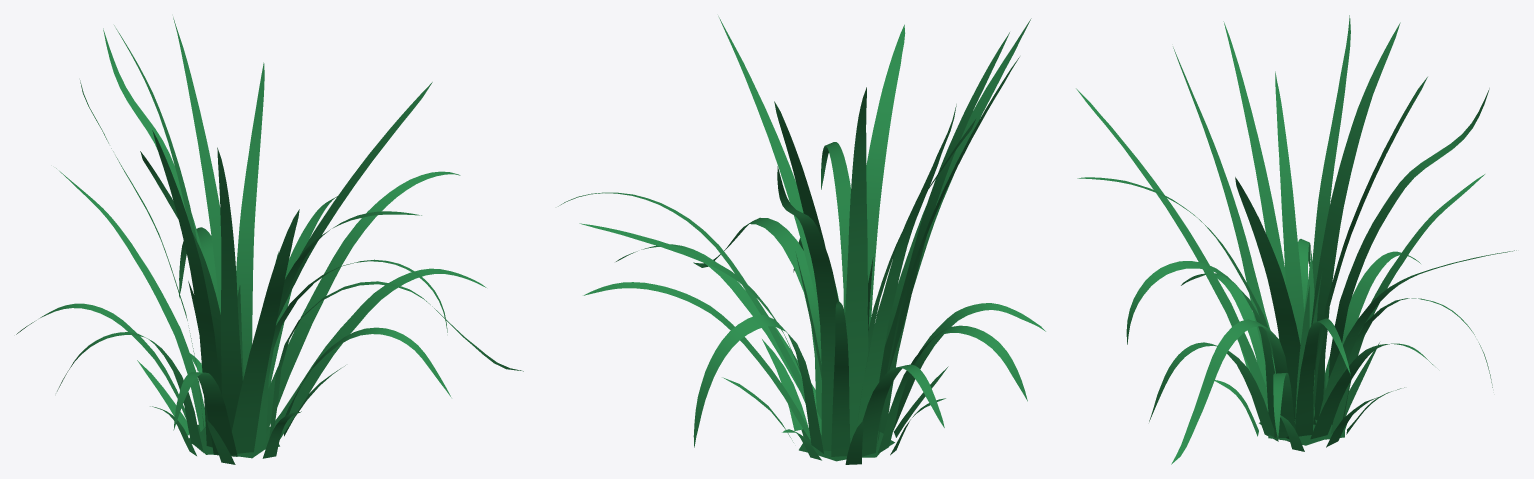
Rendered from plant_bush_A.fbx.
3 views of the same model, side by side, from view 1: azimuth 30°, elevation 25°; view 2: azimuth 150°, elevation 25°; view 3: azimuth 270°, elevation 25° (orthographic). The views are drawn at different scales.
Visible parts, largest first — view 1: plant_bush_A_leaf_J, plant_bush_A_leaf_G, plant_bush_A_leaf_I, plant_bush_A_leaf_M, plant_bush_A_leaf_L, plant_bush_A_leaf_R, plant_bush_A_leaf_D, plant_bush_A_leaf_P, plant_bush_A_leaf_W, plant_bush_A_leaf_A, plant_bush_A_leaf_K, plant_bush_A_leaf_F (+9 smaller); view 2: plant_bush_A_leaf_C, plant_bush_A_leaf_E, plant_bush_A_leaf_B, plant_bush_A_leaf_N, plant_bush_A_leaf_G, plant_bush_A_leaf_S, plant_bush_A_leaf_J, plant_bush_A_leaf_P, plant_bush_A_leaf_Q, plant_bush_A_leaf_A, plant_bush_A_leaf_U, plant_bush_A_leaf_K (+11 smaller); view 3: plant_bush_A_leaf_C, plant_bush_A_leaf_A, plant_bush_A_leaf_F, plant_bush_A_leaf_E, plant_bush_A_leaf_J, plant_bush_A_leaf_N, plant_bush_A_leaf_L, plant_bush_A_leaf_Q, plant_bush_A_leaf_M, plant_bush_A_leaf_G, plant_bush_A_leaf_K, plant_bush_A_leaf_D (+11 smaller).
Part boxes in pixels (x1,y1,x2,y2): plant_bush_A_leaf_J: [232, 209, 299, 453]; plant_bush_A_leaf_G: [217, 147, 242, 431]; plant_bush_A_leaf_I: [236, 62, 264, 376]; plant_bush_A_leaf_M: [266, 171, 460, 433]; plant_bush_A_leaf_L: [152, 130, 220, 447]; plant_bush_A_leaf_R: [266, 268, 486, 438]; plant_bush_A_leaf_D: [173, 17, 221, 314]; plant_bush_A_leaf_P: [56, 168, 205, 431]; plant_bush_A_leaf_W: [173, 372, 237, 456]; plant_bush_A_leaf_A: [276, 82, 432, 320]; plant_bush_A_leaf_K: [254, 259, 447, 451]; plant_bush_A_leaf_F: [140, 151, 221, 394]; plant_bush_A_leaf_C: [845, 87, 868, 443]; plant_bush_A_leaf_E: [777, 166, 838, 450]; plant_bush_A_leaf_B: [866, 24, 905, 328]; plant_bush_A_leaf_N: [857, 104, 956, 427]; plant_bush_A_leaf_G: [879, 32, 1009, 381]; plant_bush_A_leaf_S: [693, 315, 823, 453]; plant_bush_A_leaf_J: [878, 18, 1031, 433]; plant_bush_A_leaf_P: [831, 301, 850, 456]; plant_bush_A_leaf_Q: [693, 217, 821, 419]; plant_bush_A_leaf_A: [718, 16, 818, 307]; plant_bush_A_leaf_U: [862, 364, 944, 456]; plant_bush_A_leaf_K: [821, 142, 850, 314]; plant_bush_A_leaf_C: [1311, 22, 1400, 420]; plant_bush_A_leaf_A: [1235, 177, 1315, 424]; plant_bush_A_leaf_F: [1275, 71, 1304, 344]; plant_bush_A_leaf_E: [1328, 88, 1489, 424]; plant_bush_A_leaf_J: [1076, 88, 1268, 411]; plant_bush_A_leaf_N: [1312, 15, 1350, 398]; plant_bush_A_leaf_L: [1223, 21, 1286, 339]; plant_bush_A_leaf_Q: [1171, 319, 1289, 464]; plant_bush_A_leaf_M: [1295, 318, 1350, 436]; plant_bush_A_leaf_G: [1173, 47, 1275, 373]; plant_bush_A_leaf_K: [1126, 261, 1274, 428]; plant_bush_A_leaf_D: [1313, 77, 1427, 424].
Size of the model in its own units: 126 by 111 by 119.
